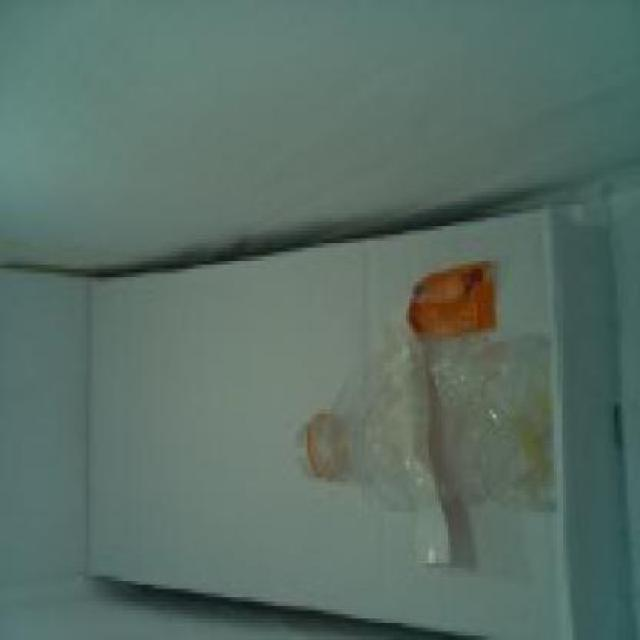Pet_Bottle: (269, 258, 586, 580)
